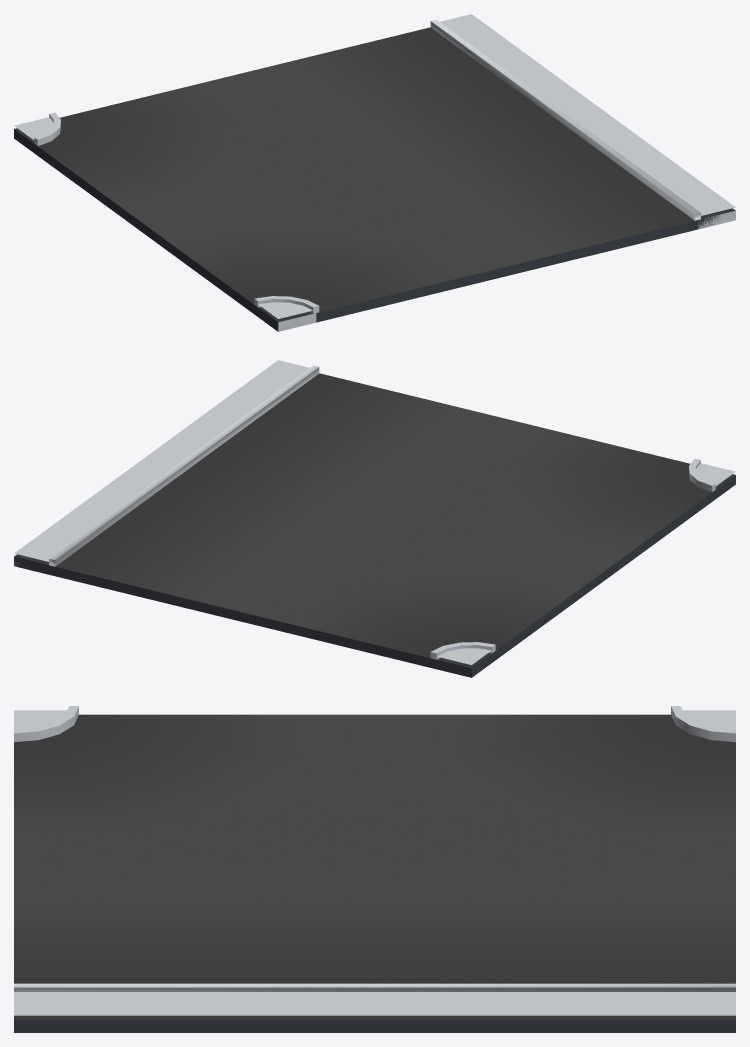
File: road_003_pacote.glb
3 views of the same model, one above another, from view 1: azimuth 30°, elevation 25°; view 2: azimuth 150°, elevation 25°; view 3: azimuth 270°, elevation 25° (orthographic). The views are drawn at different scales.
Visible parts, largest first — view 1: road_003_pacote; view 2: road_003_pacote; view 3: road_003_pacote.
Boxes of the visible parts, x1=… form: road_003_pacote: x1=14, y1=14, x2=735, y2=331; road_003_pacote: x1=14, y1=360, x2=735, y2=677; road_003_pacote: x1=14, y1=706, x2=735, y2=1032.
Bounding box in the file's own units: 15 × 0.5 × 15.
Materials: 2 (2 with a texture image).
